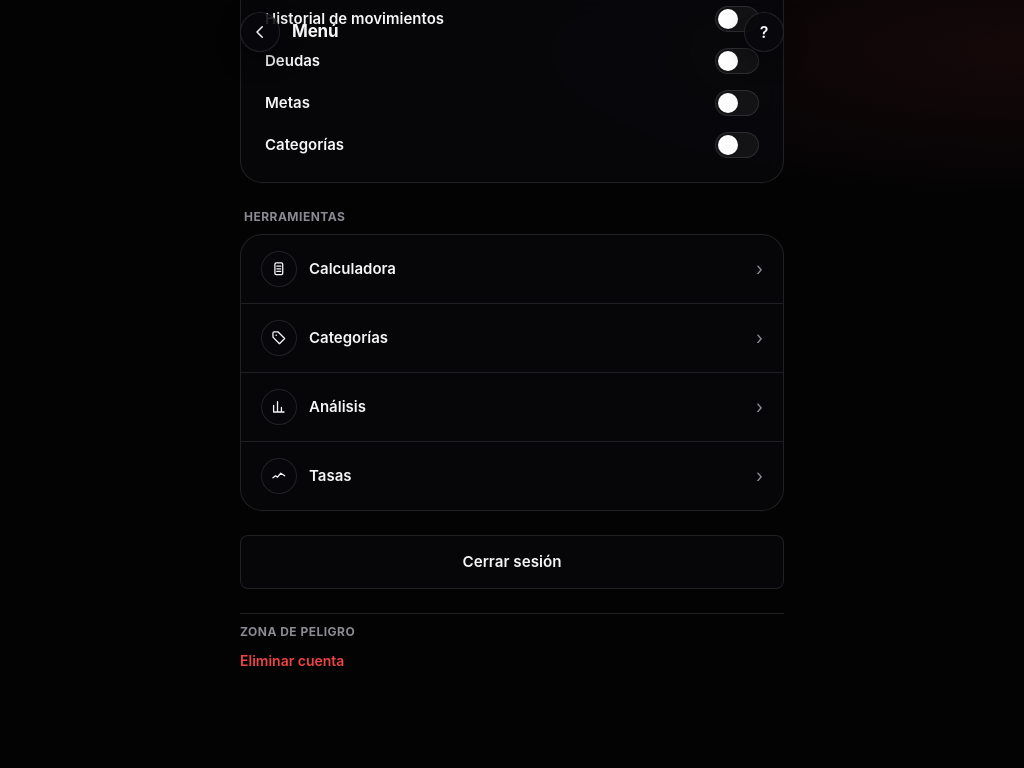
Test: SettingsMenuMain - eliminar cuenta › el boton de confirmar borrado esta deshabilitado hasta escribir el correo exacto
(page scrolled)
Click the button with class "delete-account-trigger": (292, 661) [240,650,344,672]
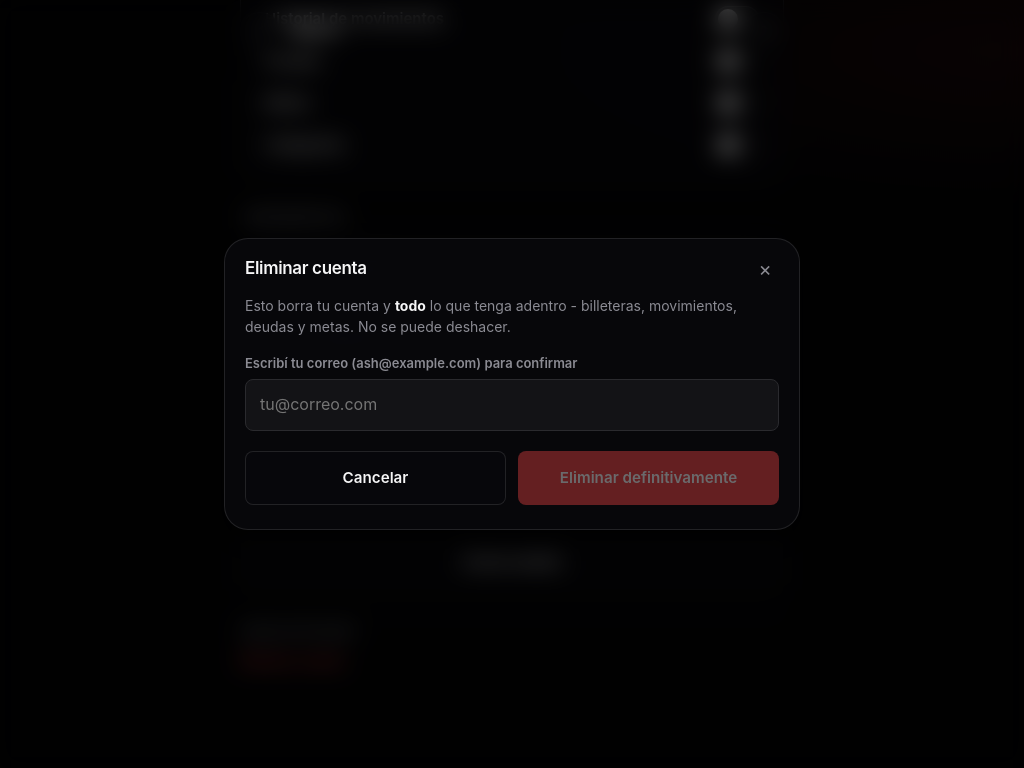
Expected: the button with class "delete-confirm-button" is disabled, [518,451,779,505]
In the field labelled "Escribí tu correo (ash@example.com) para confirmar": (512, 405) [245,379,779,431], type "otro@example.com"
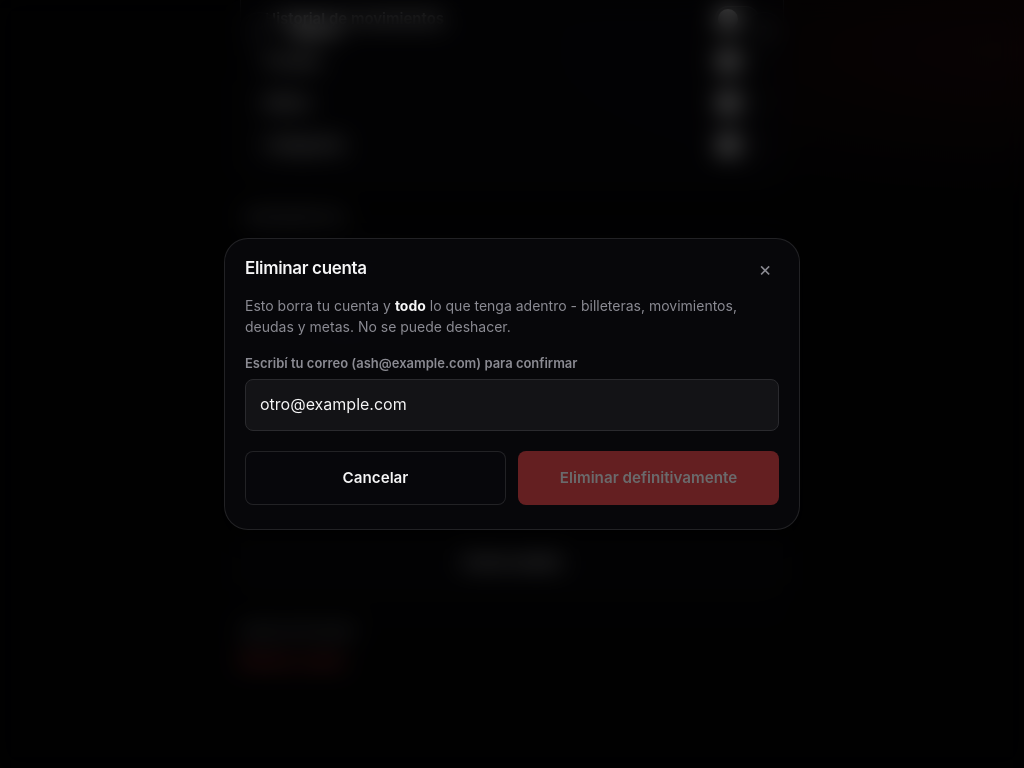
Expected: the button with class "delete-confirm-button" is disabled, [518,451,779,505]
Replace the text in the field labelled "Escribí tu correo (ash@example.com) para confirmar" with "ash@example.com": (512, 405) [245,379,779,431]
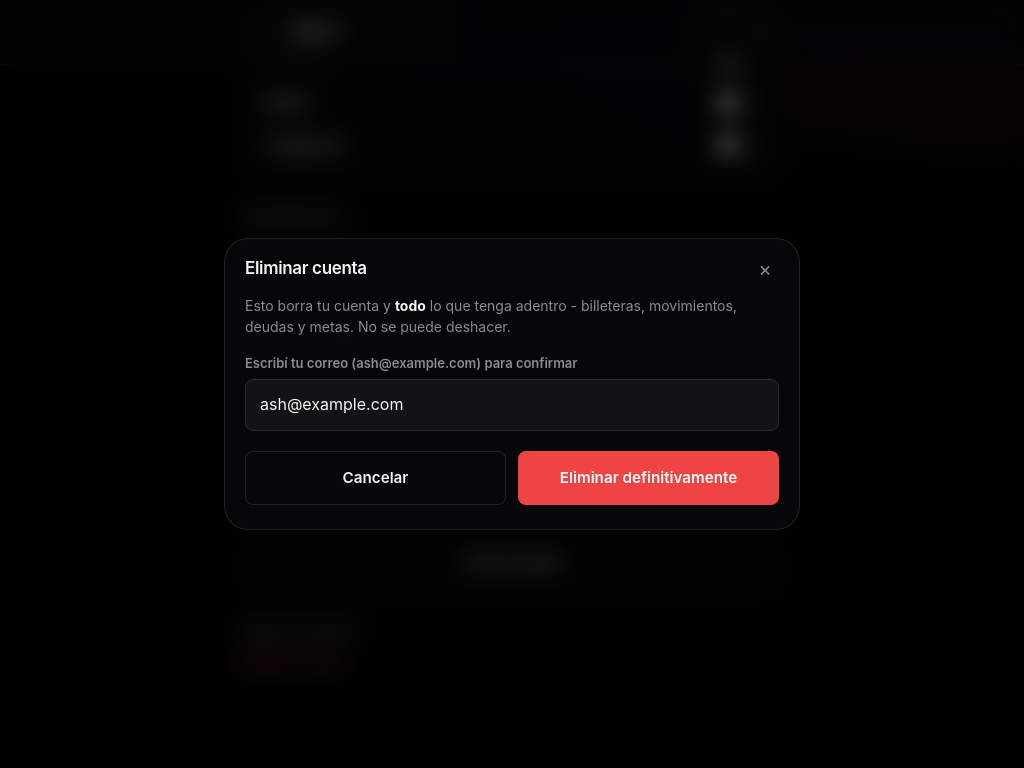
Expected: the button with class "delete-confirm-button" is enabled, [518,451,779,505]
